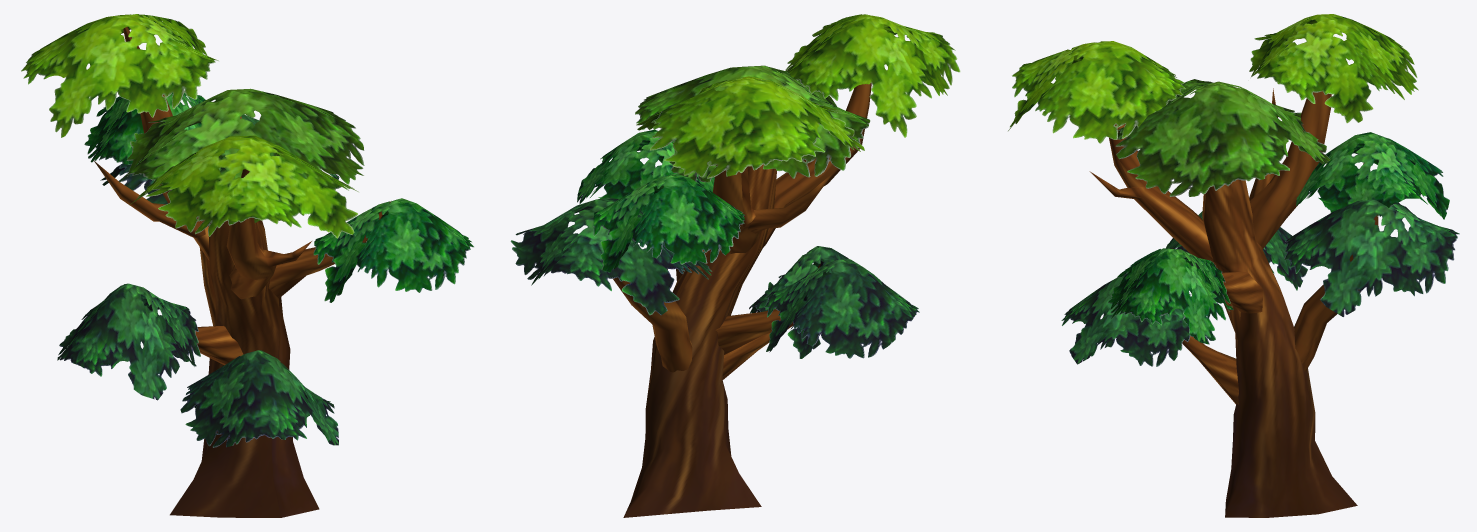
The model's file is tree_3.FBX.
3 views of the same model, side by side, from view 1: azimuth 30°, elevation 25°; view 2: azimuth 150°, elevation 25°; view 3: azimuth 270°, elevation 25° (orthographic). The views are drawn at different scales.
Visible parts, largest first — view 1: tree_3; view 2: tree_3; view 3: tree_3.
Boxes of the visible parts, x1,y1,x2,y2 form: tree_3: (21,14,473,517); tree_3: (510,14,960,517); tree_3: (1008,14,1459,517).
Bounding box in the file's own units: 215 × 265 × 258.
